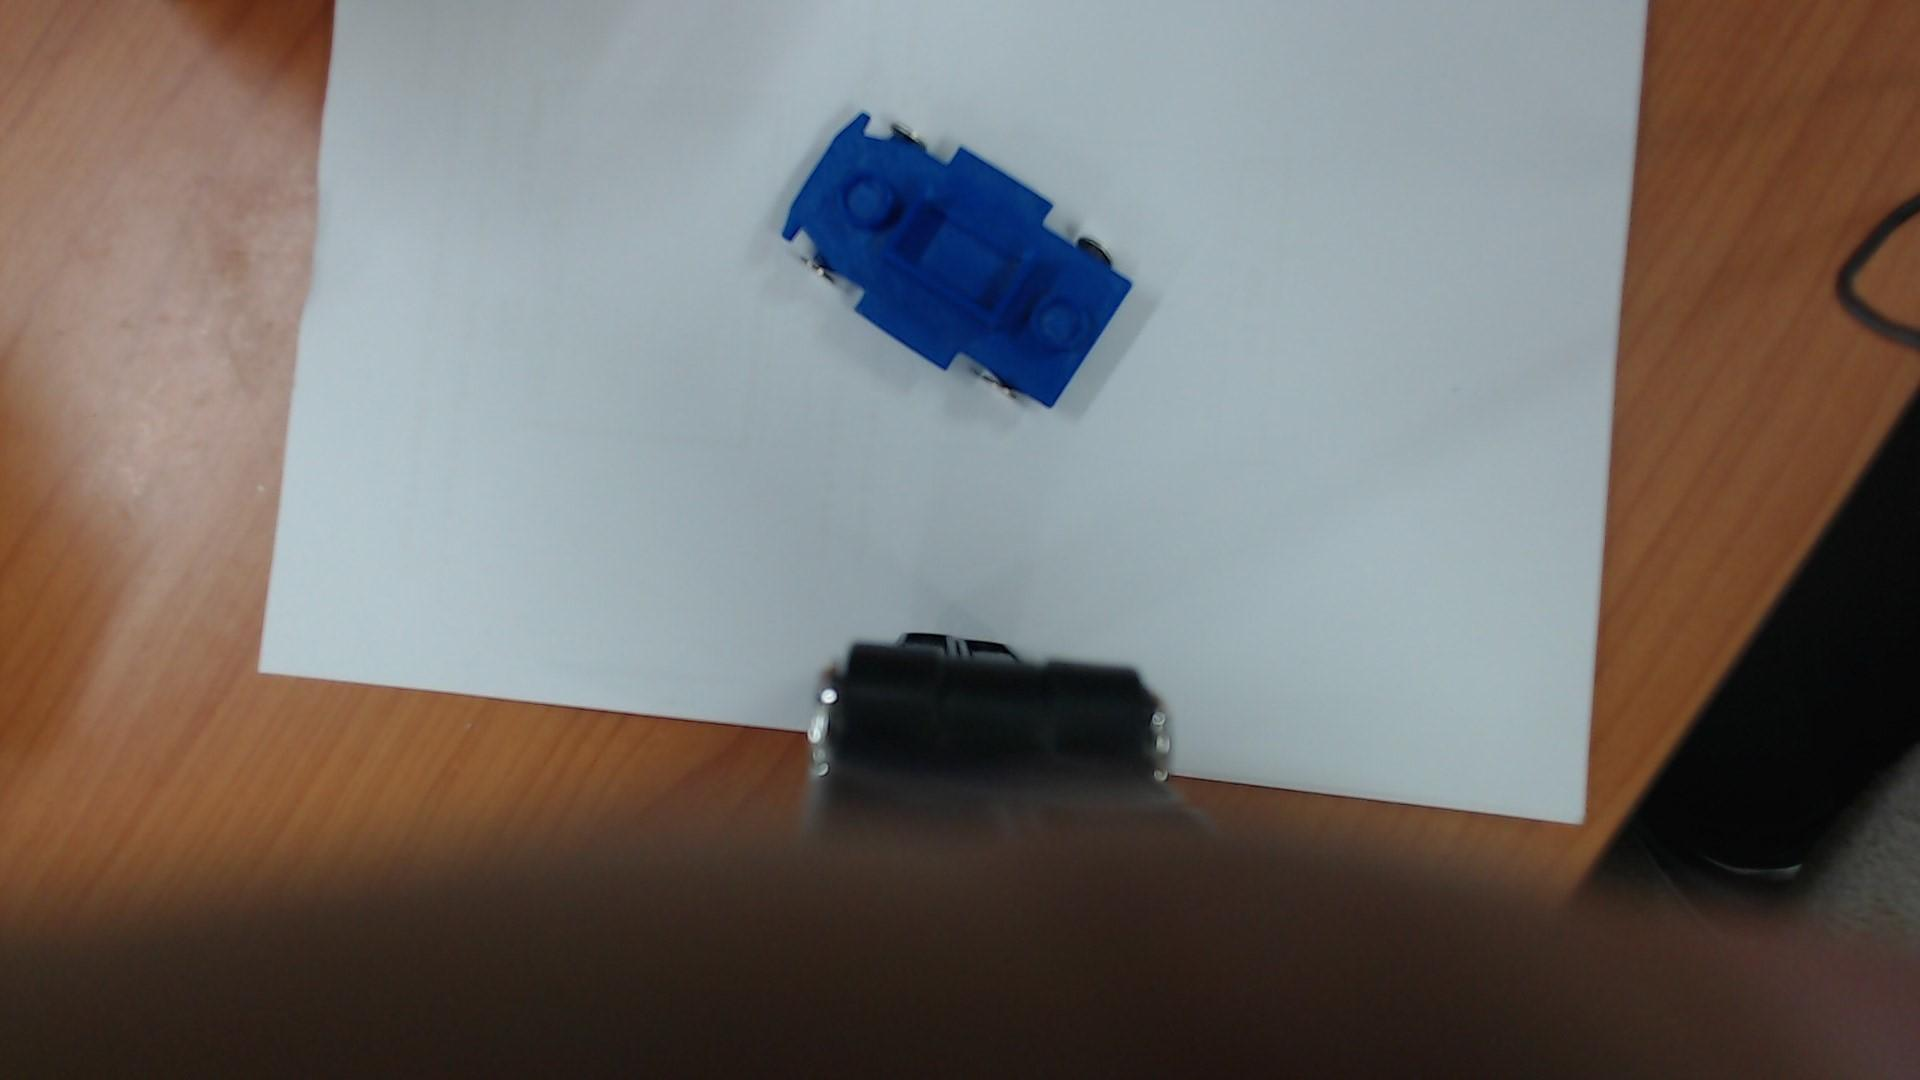lower_ng: (875, 187, 1051, 338)
